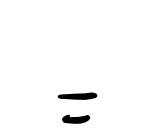eqv: (59, 93, 97, 124)
